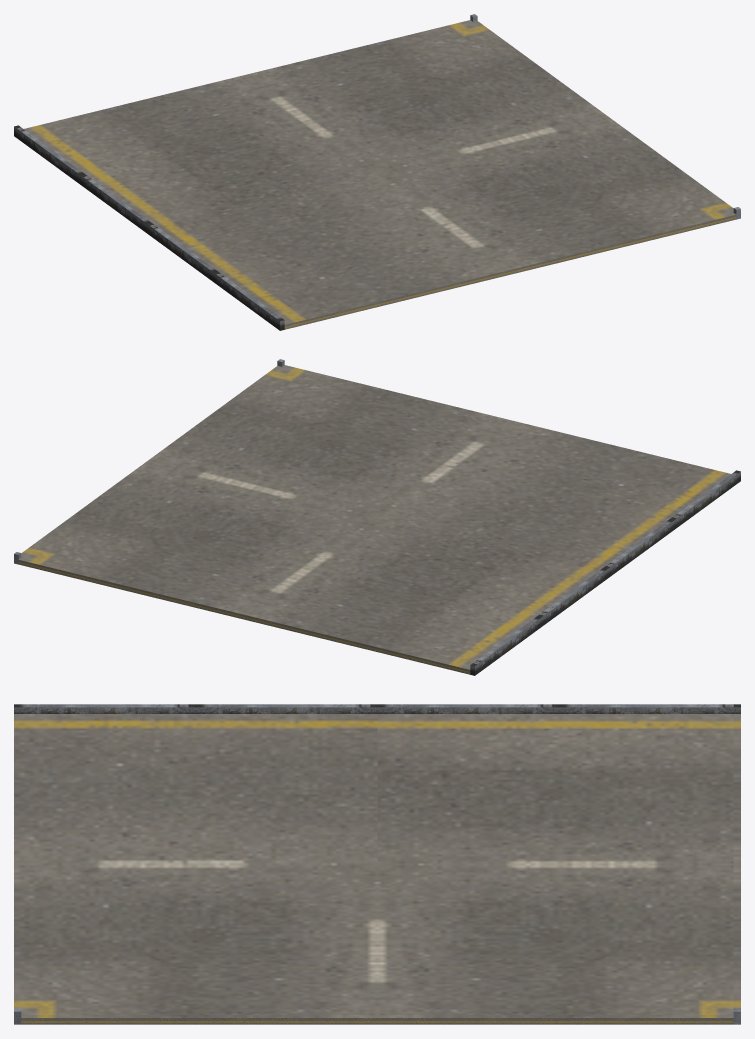
File: Urban_Road1TjunctionSmallSides_Model.fbx
The picture shows the model from 3 angles, top to bottom: view 1: azimuth 30°, elevation 25°; view 2: azimuth 150°, elevation 25°; view 3: azimuth 270°, elevation 25°; orthographic projection. The views are drawn at different scales.
Visible parts, largest first — view 1: Urban_Road1TjunctionSmallSides_Mesh; view 2: Urban_Road1TjunctionSmallSides_Mesh; view 3: Urban_Road1TjunctionSmallSides_Mesh.
Part boxes in pixels (x1,y1,x2,y2): Urban_Road1TjunctionSmallSides_Mesh: (14,14,740,330); Urban_Road1TjunctionSmallSides_Mesh: (14,359,740,675); Urban_Road1TjunctionSmallSides_Mesh: (14,704,740,1024).
Size of the model in its own units: 16 by 0.32 by 16.
